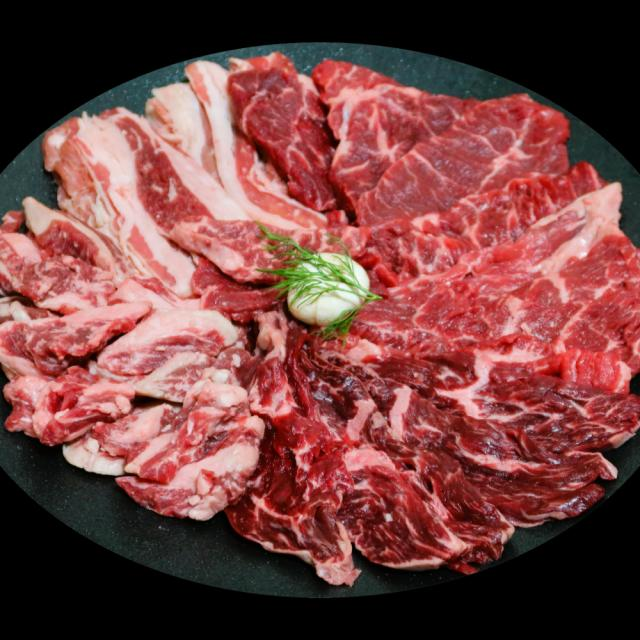beef: (61, 224, 238, 445), (320, 362, 577, 505)
